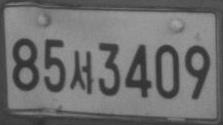0: (154, 43, 179, 99)
3: (97, 41, 121, 96)
4: (123, 43, 152, 98)
5: (43, 38, 66, 92)
8: (11, 37, 39, 91)
9: (183, 44, 210, 100)
서: (69, 49, 92, 94)
